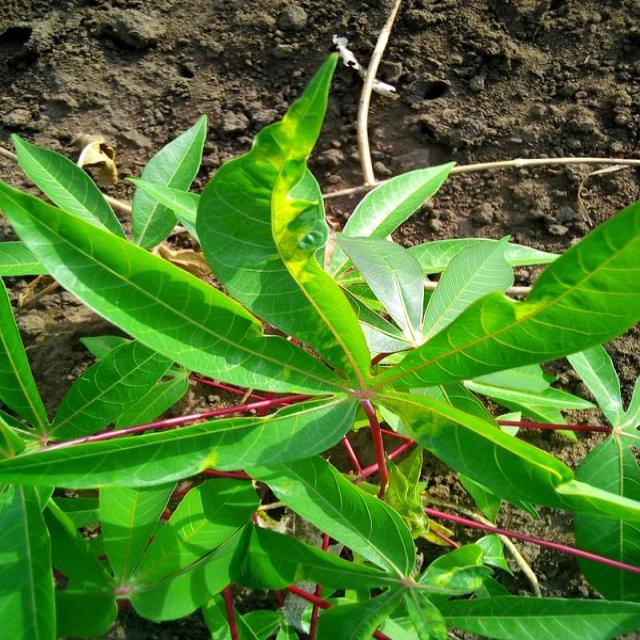cassava leaf: (0, 48, 638, 637), (194, 49, 372, 385)
